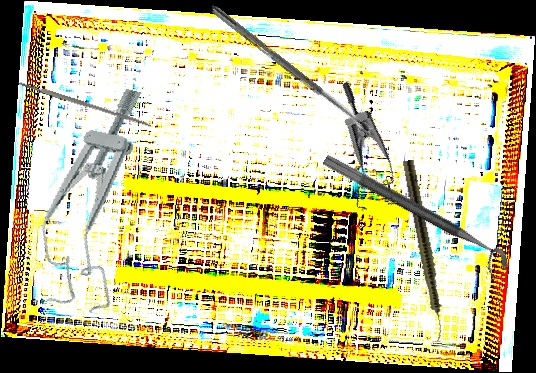Fixation Ring: (313, 152, 514, 283)
Handpiece: (399, 159, 450, 342)
Scalpel Handle: (17, 79, 153, 129)
Speculum: (25, 77, 159, 317), (295, 80, 421, 223)
Surgical Spoon: (207, 3, 374, 136)
